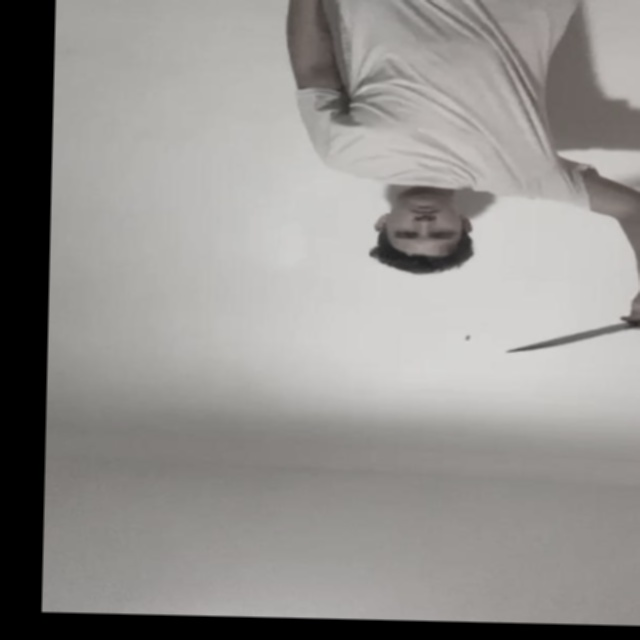Sharp-Object: (501, 323, 622, 356)
